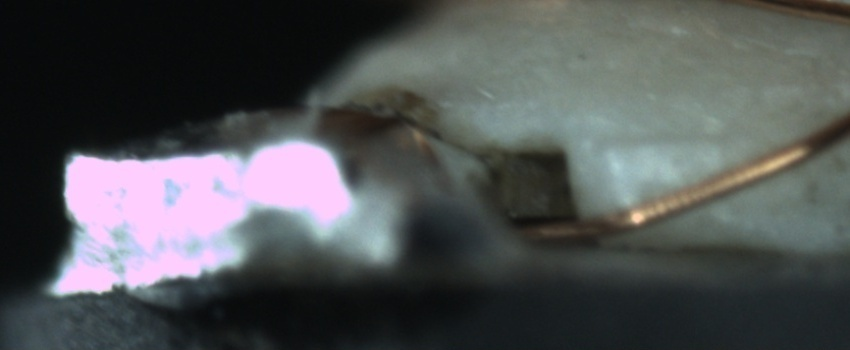DL: (595, 107, 744, 177)
